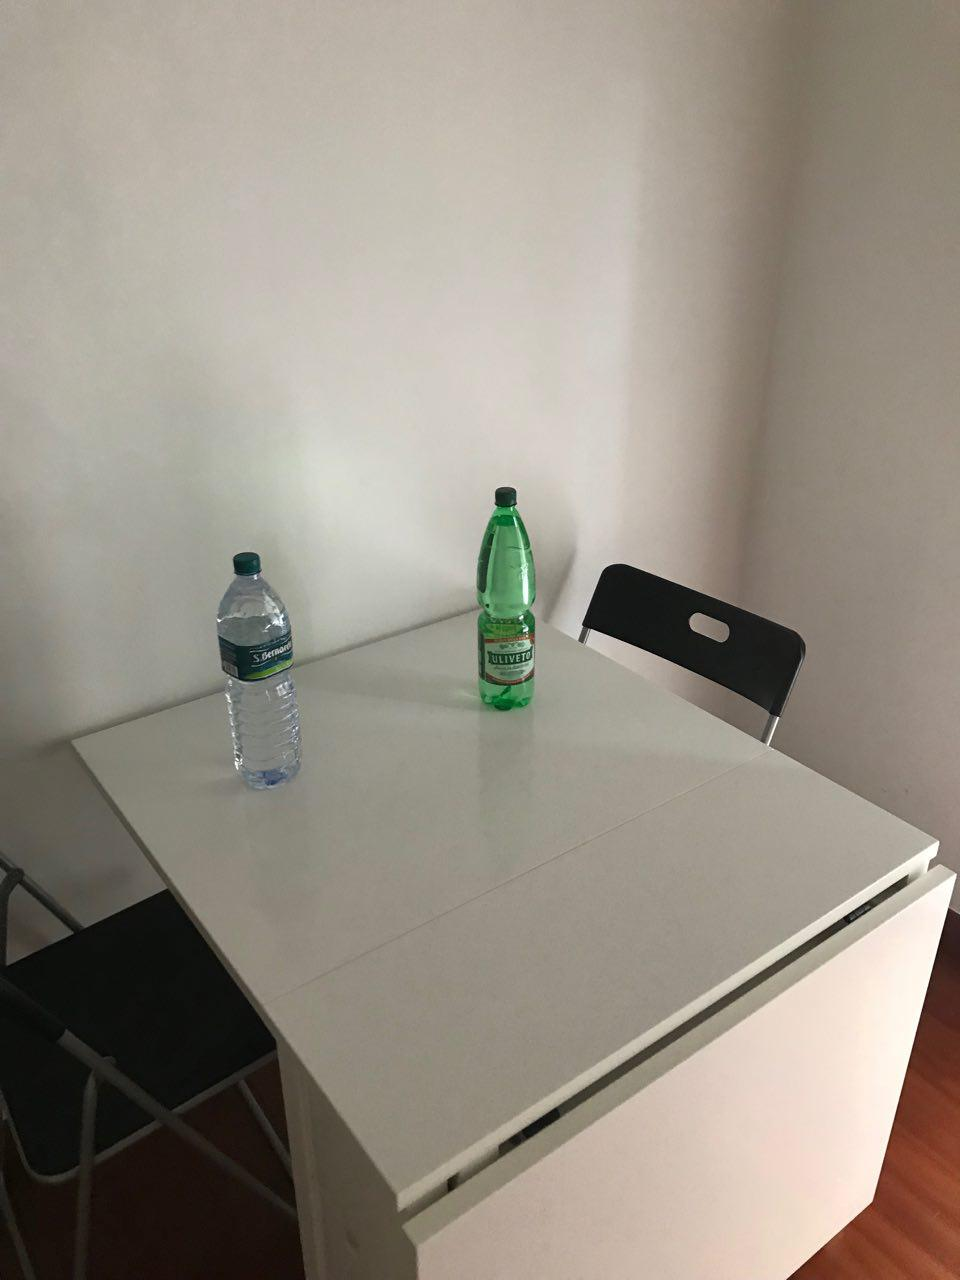san_bernardo: (216, 552, 303, 791)
